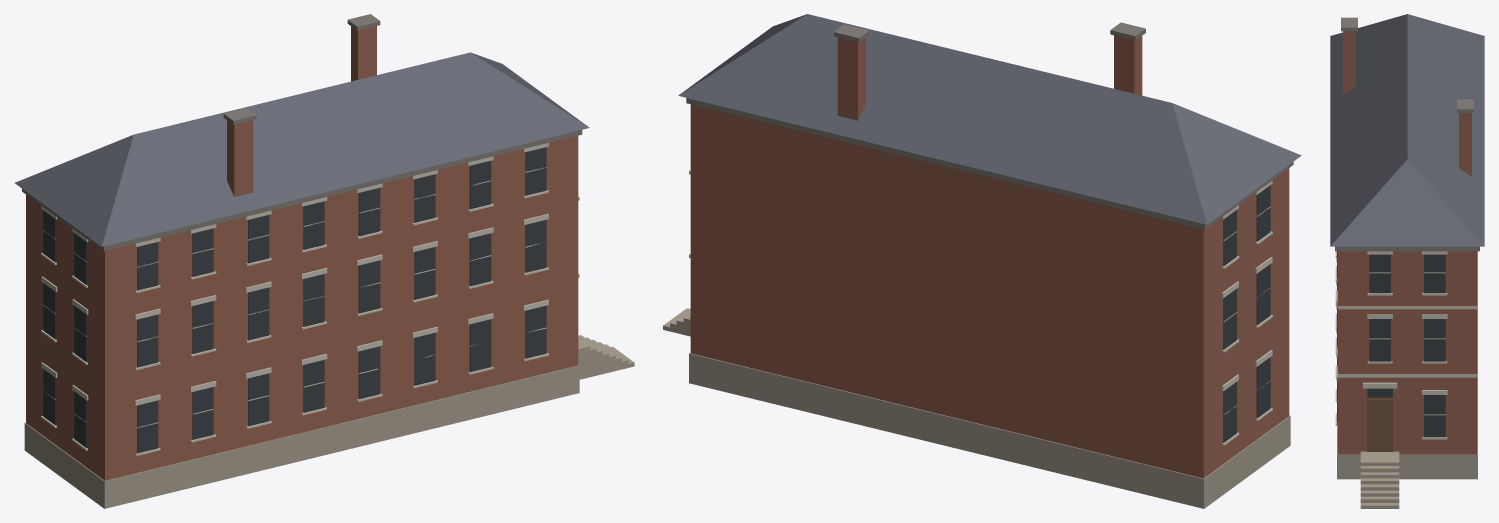
The model's file is house_2019_indiana__draft_1904.glb.
3 renders of one model, left to right at view 1: azimuth 30°, elevation 25°; view 2: azimuth 150°, elevation 25°; view 3: azimuth 270°, elevation 25°, orthographic. The views are drawn at different scales.
Visible parts, largest first — view 1: house_2019_indiana__draft_1904; view 2: house_2019_indiana__draft_1904; view 3: house_2019_indiana__draft_1904.
Part boxes in pixels (bbox=[...]): house_2019_indiana__draft_1904: bbox=[15, 14, 634, 508]; house_2019_indiana__draft_1904: bbox=[663, 14, 1301, 508]; house_2019_indiana__draft_1904: bbox=[1330, 14, 1484, 508].
Bounding box in the file's own units: 26.15 × 16.09 × 7.2.
